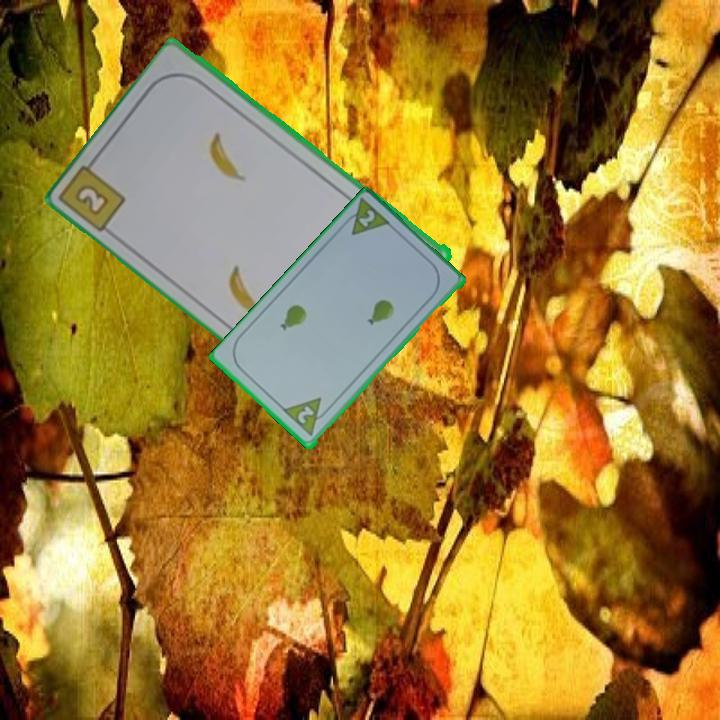2b: (75, 184, 113, 219)
2p: (294, 402, 317, 427), (355, 206, 378, 230)
